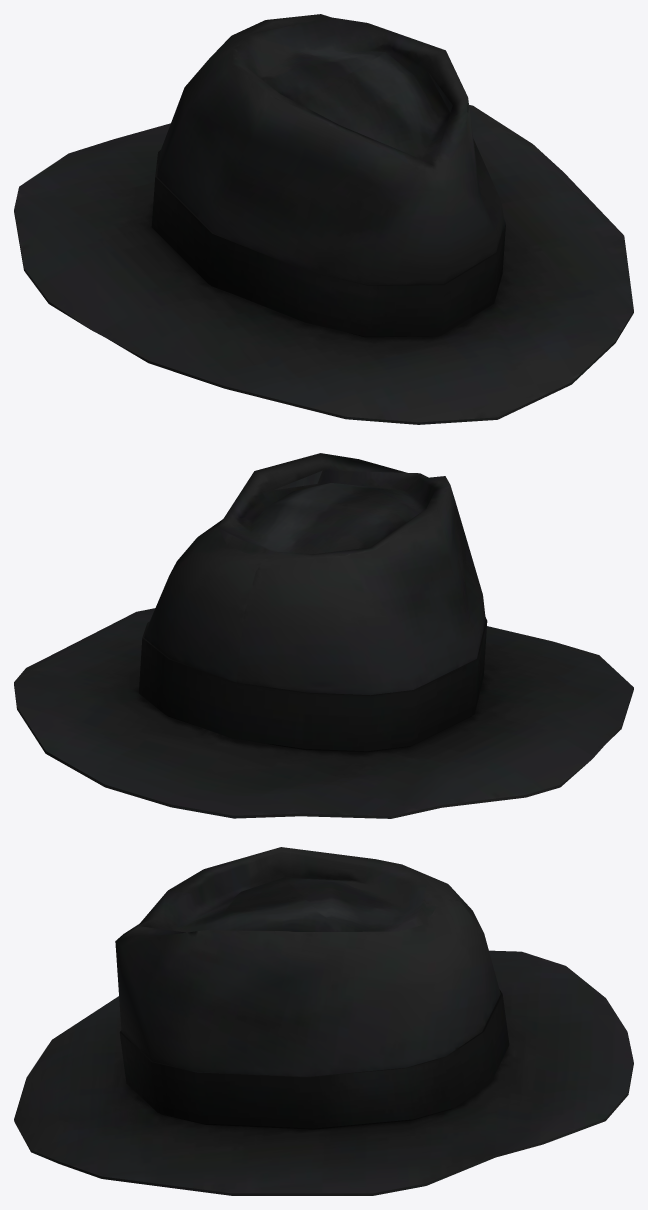
Rendered from scene.lite.glb.
3 views of the same model, one above another, from view 1: azimuth 30°, elevation 25°; view 2: azimuth 150°, elevation 25°; view 3: azimuth 270°, elevation 25° (orthographic). The views are drawn at different scales.
Parts seen in each view (by area): view 1: Object_2; view 2: Object_2; view 3: Object_2.
Part boxes in pixels (x1,y1,x2,y2): Object_2: (14,14,633,424); Object_2: (14,453,633,818); Object_2: (14,847,633,1195).
Size of the model in its own units: 0.257 by 0.1163 by 0.2796.
1 material, 1 textured.
